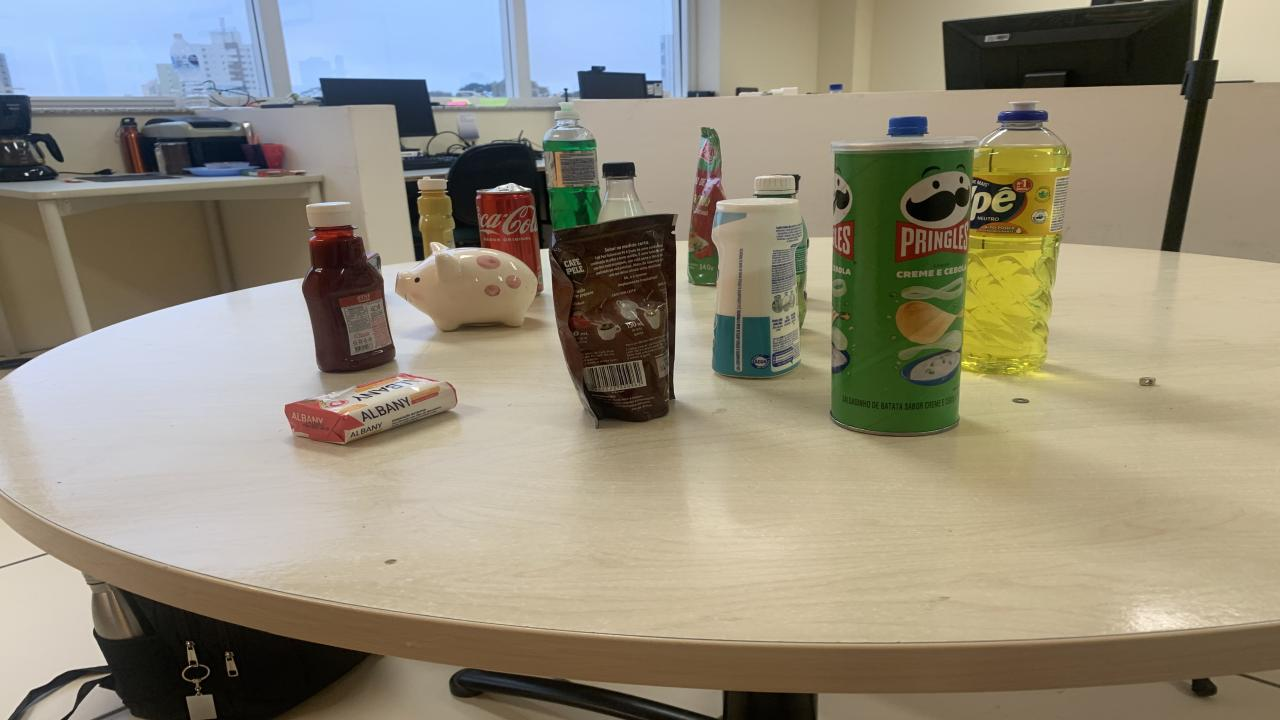Cleaner-Cleanup_Items: (712, 197, 802, 377)
Coffee-Pantry_Items: (550, 216, 675, 422), (475, 184, 542, 291)
Coke-Drinks: (475, 184, 542, 291), (418, 176, 455, 257)
Detergent-Cleanup_Items: (962, 101, 1070, 375), (542, 103, 600, 229)
Guarana-Drinks: (795, 221, 810, 328), (755, 174, 798, 199)
Ketchup-Pantry_Items: (302, 223, 395, 373), (308, 202, 350, 223)
Mustard-Pantry_Items: (418, 176, 455, 257)
Pig_Safe-Miscellaneous: (395, 242, 538, 332)
Pringles-Snacks: (830, 137, 975, 435)
Soap-Cleanup_Items: (285, 373, 458, 444)
Tomato_Sauce-Pantry_Items: (688, 128, 725, 285)
Water_Bottle-Drinks: (888, 116, 928, 137)
